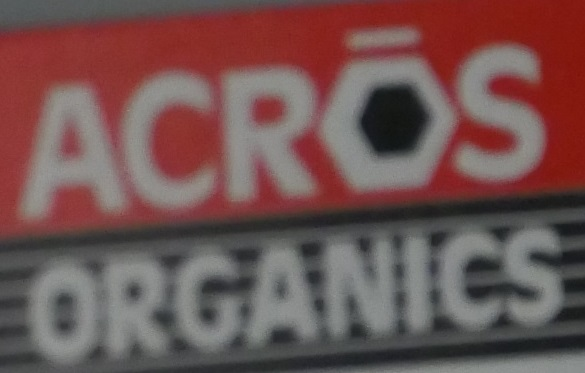AcrosOrganics: (20, 23, 567, 365)
